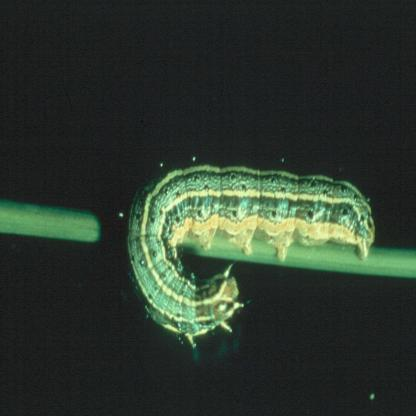armyworm: (124, 155, 376, 345)
